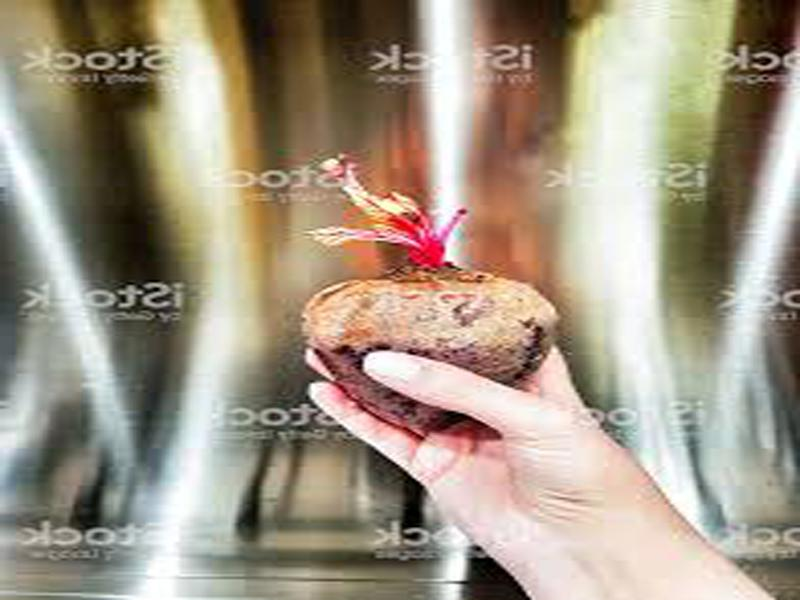Beet: (301, 161, 554, 432)
